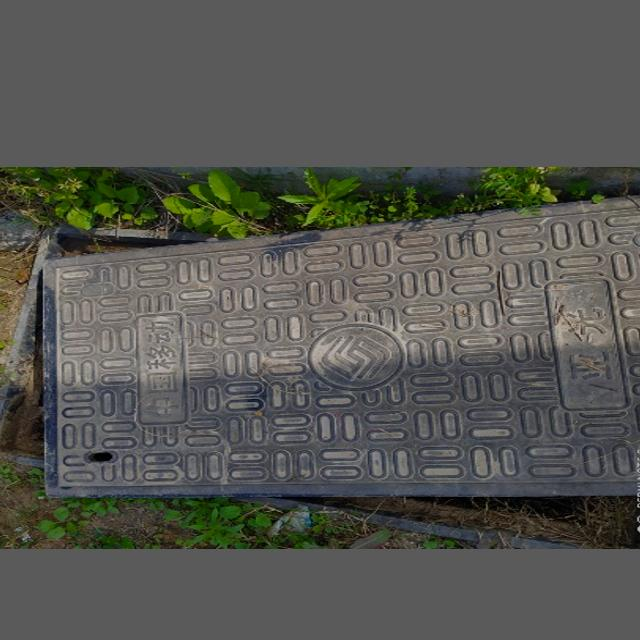uncovered: (0, 188, 640, 544)
